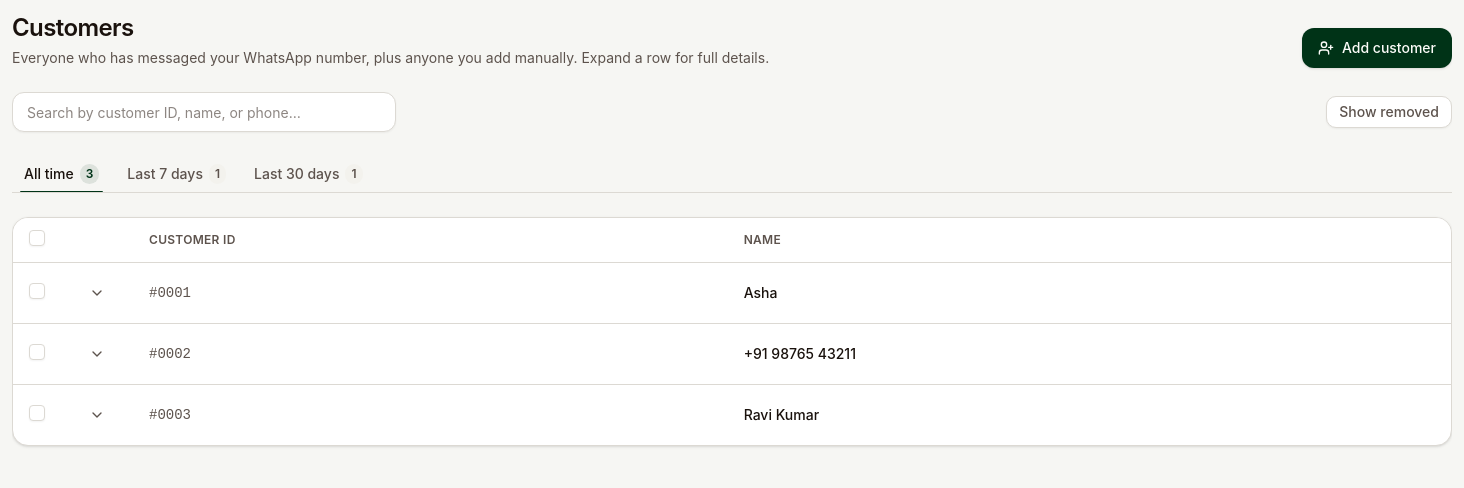
Test: CustomersPage › shows a distinct empty state when a search/filter yields no matches
This screenshot has width=1464, height=488.
Check: the text "Asha" is shown, box [728,262,1451,323]
Type "nonexistent" into the search field named "Search customers" at x=204, y=112, box [12,92,396,132]
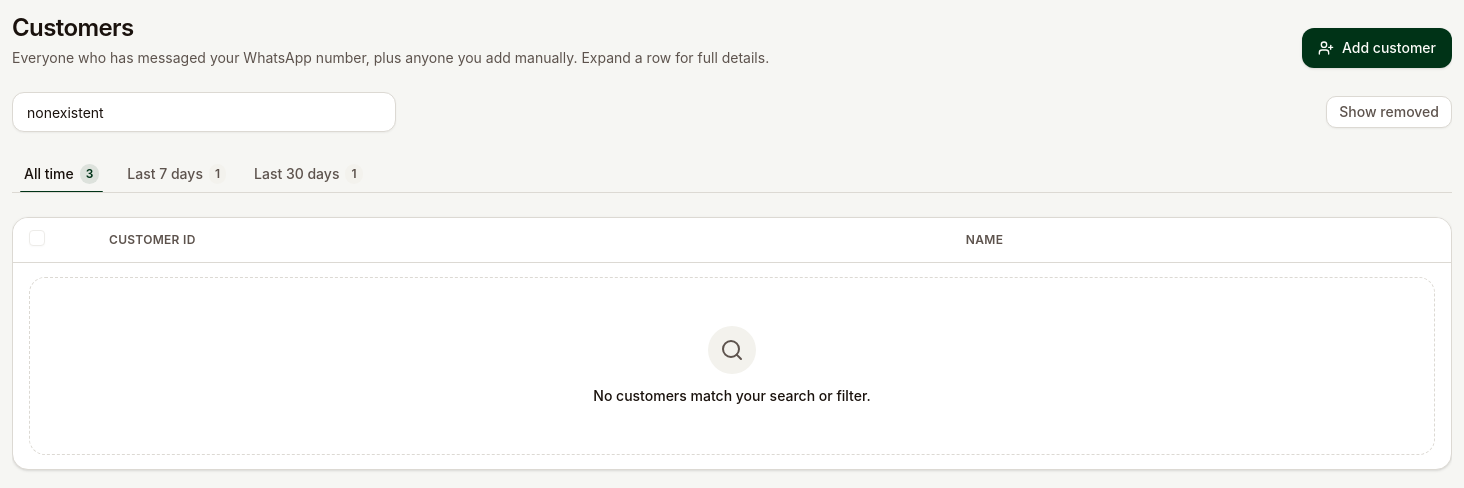
Check: the text "No customers match your search or filter." is shown, box [593,386,871,406]
